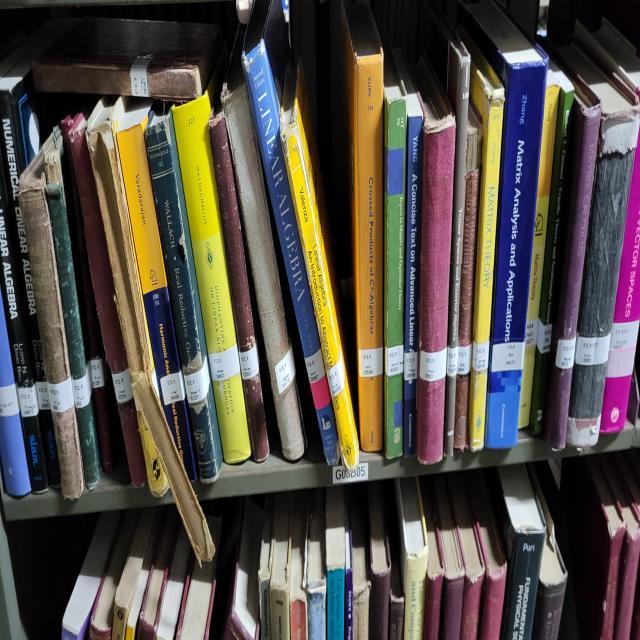Book: (88, 103, 212, 563), (242, 41, 339, 465), (460, 0, 548, 449), (559, 43, 640, 449), (280, 62, 359, 471), (114, 97, 196, 482), (222, 81, 305, 460), (172, 76, 251, 463), (145, 108, 222, 482), (69, 114, 146, 487), (0, 22, 60, 484), (419, 0, 470, 457), (20, 146, 84, 501), (542, 81, 601, 449), (209, 111, 269, 463), (44, 135, 100, 490), (342, 0, 384, 452), (61, 116, 112, 473), (415, 54, 456, 465), (0, 152, 49, 492), (530, 62, 574, 436), (469, 41, 505, 452), (519, 70, 560, 427), (600, 130, 640, 433), (395, 51, 422, 457), (382, 41, 406, 460), (454, 103, 482, 452)
Label: (184, 357, 210, 403), (575, 333, 611, 365), (209, 344, 240, 381), (491, 341, 525, 373), (48, 376, 75, 414), (275, 346, 295, 395), (419, 346, 446, 381), (160, 371, 185, 406), (606, 349, 635, 379), (72, 365, 91, 409), (328, 349, 345, 398), (111, 368, 134, 403), (359, 346, 382, 379), (239, 344, 259, 379), (305, 349, 325, 384), (18, 384, 39, 417), (555, 338, 576, 371), (385, 344, 404, 376), (536, 319, 552, 354), (472, 341, 490, 371), (90, 357, 105, 390), (456, 344, 471, 376), (36, 381, 51, 411), (404, 349, 418, 381), (525, 317, 539, 346), (446, 346, 458, 376)
